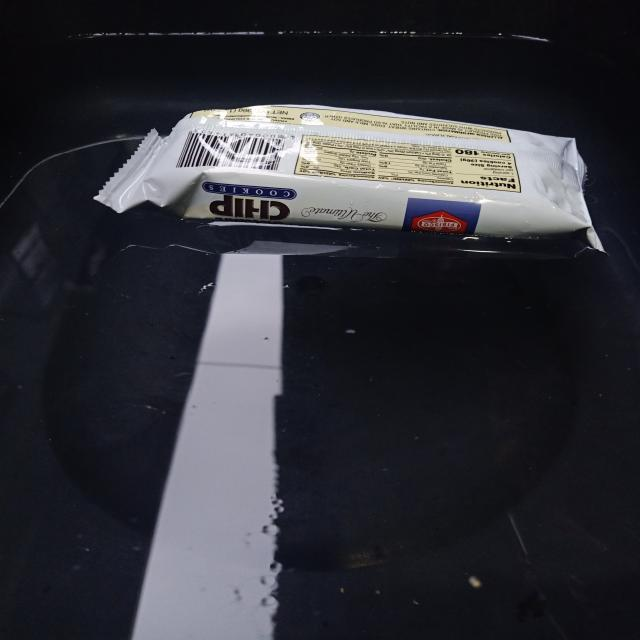Plastic Wrapper: (79, 88, 627, 270)
